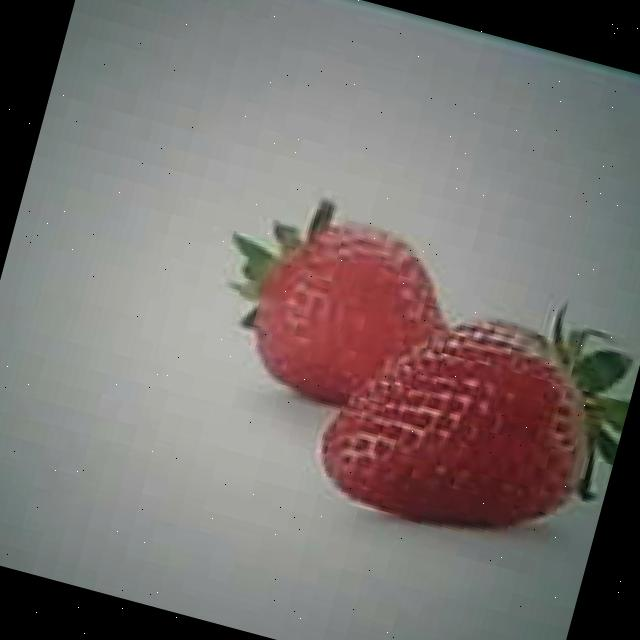strawberry: (312, 288, 622, 560)
